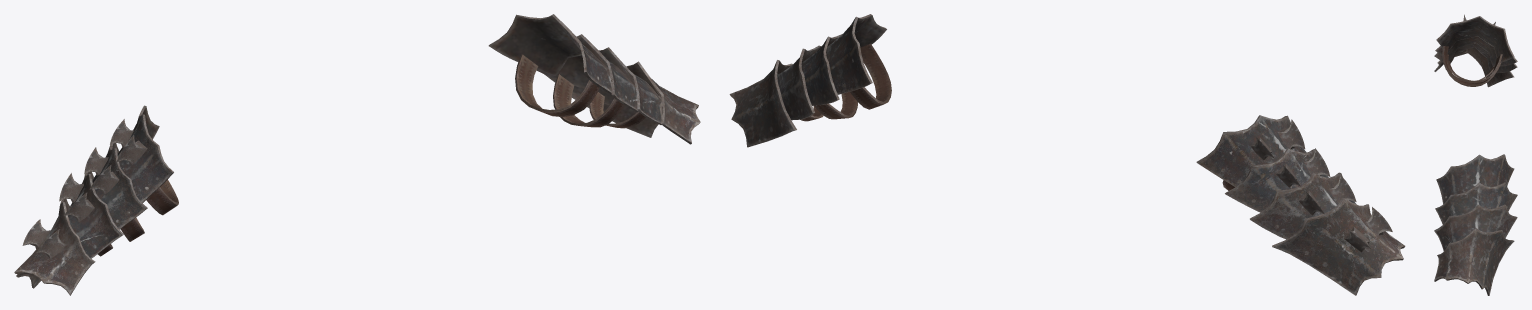
File: sk_dg_uruk_bracer_elite_h.fbx
3 renders of one model, left to right at view 1: azimuth 30°, elevation 25°; view 2: azimuth 150°, elevation 25°; view 3: azimuth 270°, elevation 25°, orthographic. The views are drawn at different scales.
Visible parts, largest first — view 1: sk_dg_uruk_bracer_elite_h; view 2: sk_dg_uruk_bracer_elite_h; view 3: sk_dg_uruk_bracer_elite_h.
Part boxes in pixels (x1=…): sk_dg_uruk_bracer_elite_h: x1=14, y1=14, x2=700, y2=295; sk_dg_uruk_bracer_elite_h: x1=729, y1=14, x2=1405, y2=295; sk_dg_uruk_bracer_elite_h: x1=1434, y1=14, x2=1517, y2=295.
Size of the model in its own units: 1.54 by 0.2366 by 0.3306.
1 material, 1 textured.
